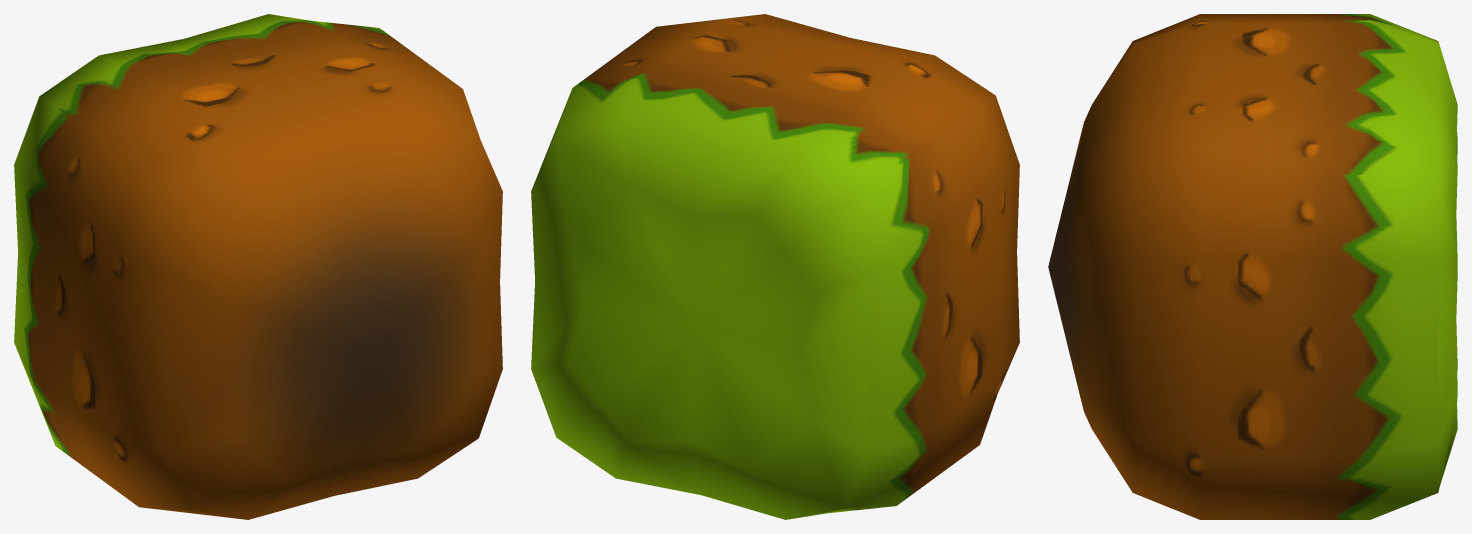
The model's file is grass_tile.FBX.
The picture shows the model from 3 angles, left to right: view 1: azimuth 30°, elevation 25°; view 2: azimuth 150°, elevation 25°; view 3: azimuth 270°, elevation 25°; orthographic projection.
Visible parts, largest first — view 1: GrassTile; view 2: GrassTile; view 3: GrassTile.
Part boxes in pixels (left/top/right/bottom): GrassTile: left=14, top=14, right=502, bottom=519; GrassTile: left=531, top=14, right=1019, bottom=519; GrassTile: left=1048, top=14, right=1457, bottom=519.
Size of the model in its own units: 1 by 1 by 0.9412.
Materials: 1 (1 with a texture image).
